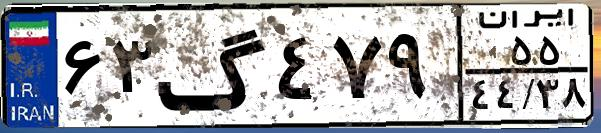3: (110, 28, 156, 98), (535, 70, 560, 125)
4: (270, 28, 330, 110), (470, 70, 495, 125), (495, 70, 520, 125)
5: (537, 27, 568, 80), (508, 27, 537, 80)
6: (57, 26, 110, 100)
7: (330, 28, 385, 110)
8: (560, 70, 590, 125)
9: (385, 28, 445, 110)
گ: (156, 12, 270, 120)
